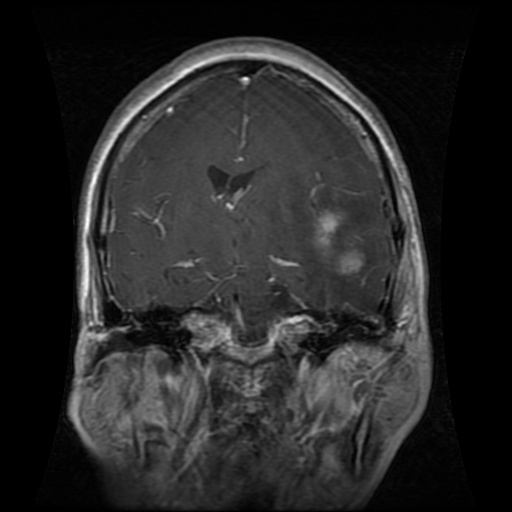glioma: (301, 184, 385, 280)
